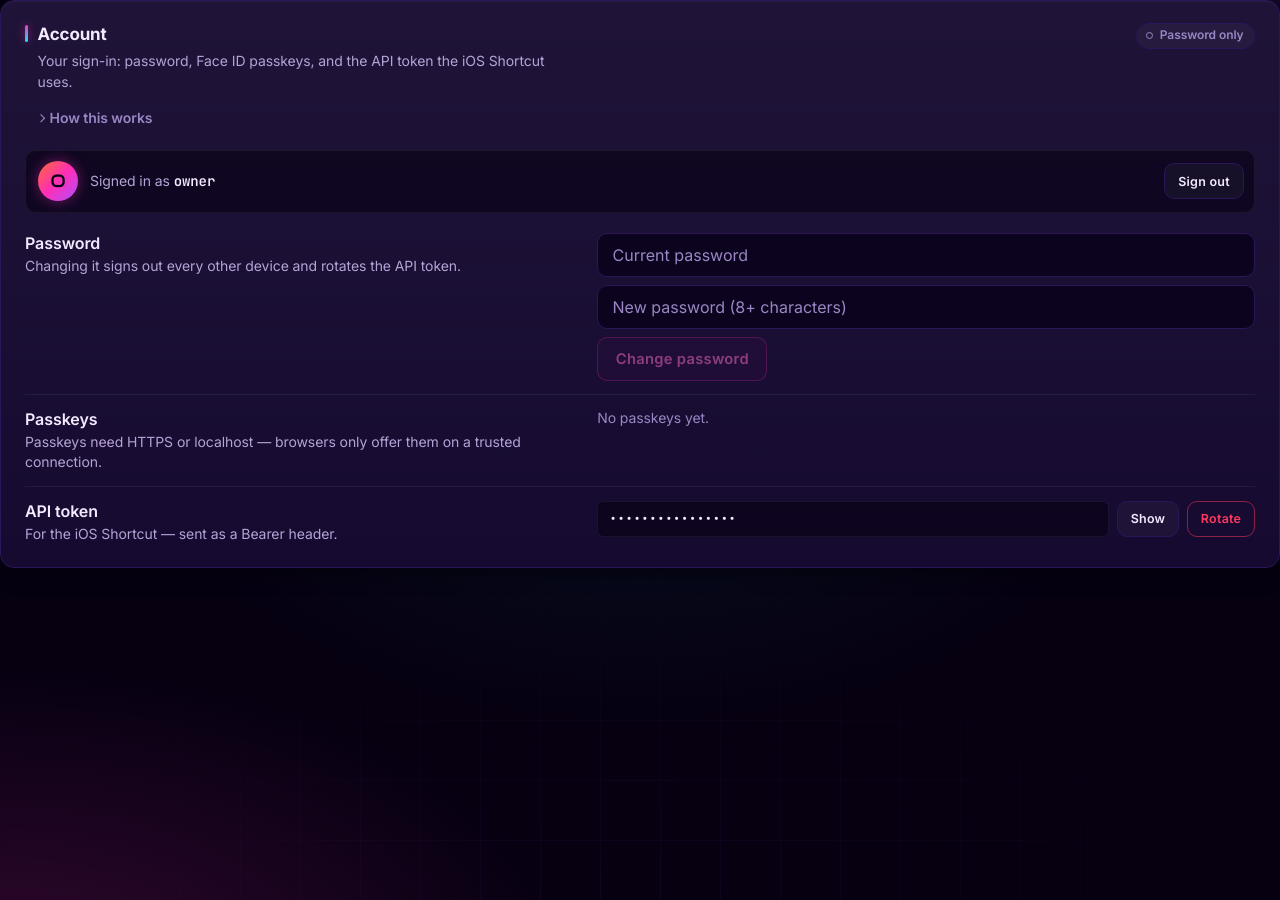
AccountCard — the API token is a credential, not a profile field › asks for the password before revealing it
Click the button "Show" at (1148, 519), box [1117, 501, 1179, 537]
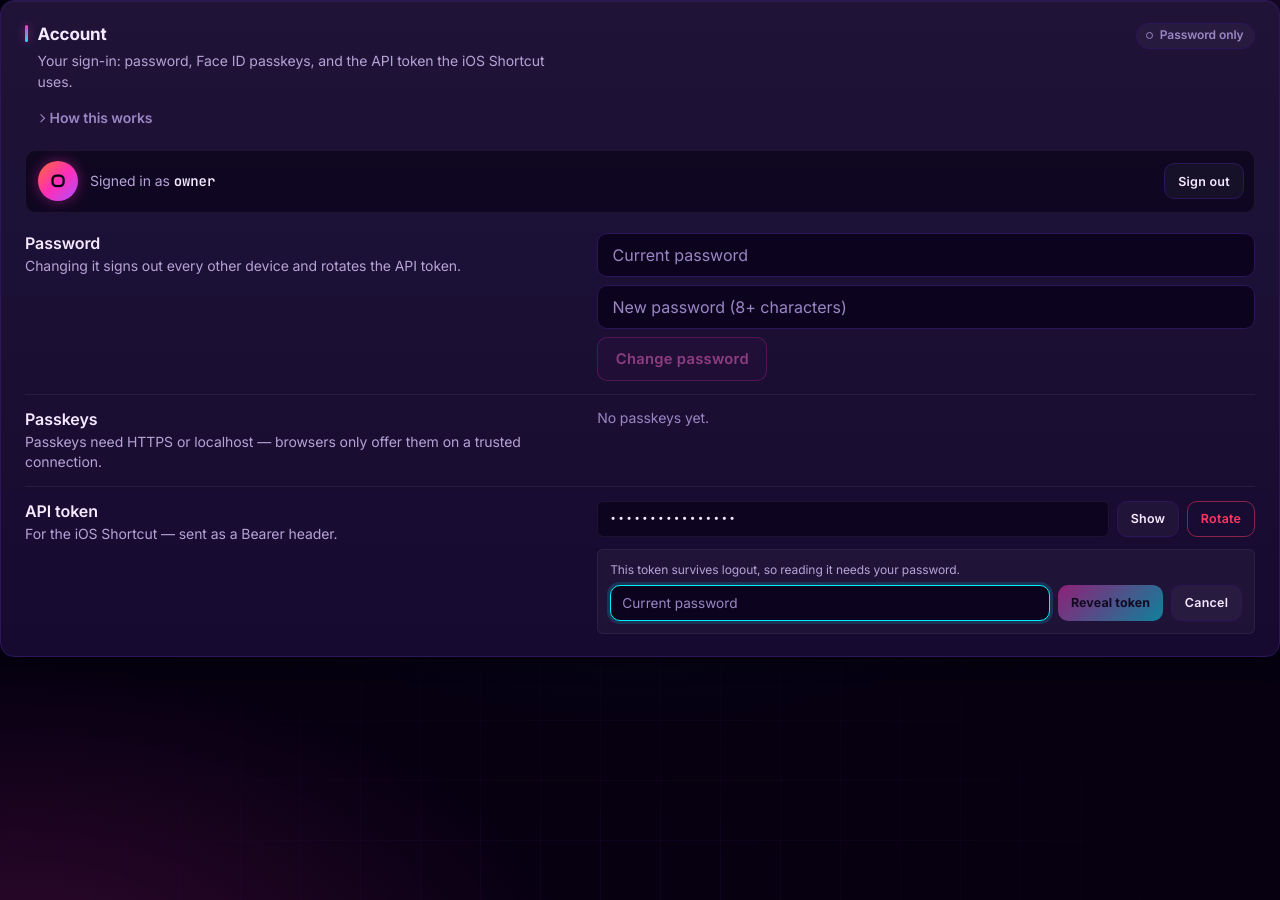
Type "a-strong-password" into the password field named "Current password to reveal the API token" at (830, 603), box [610, 585, 1050, 621]
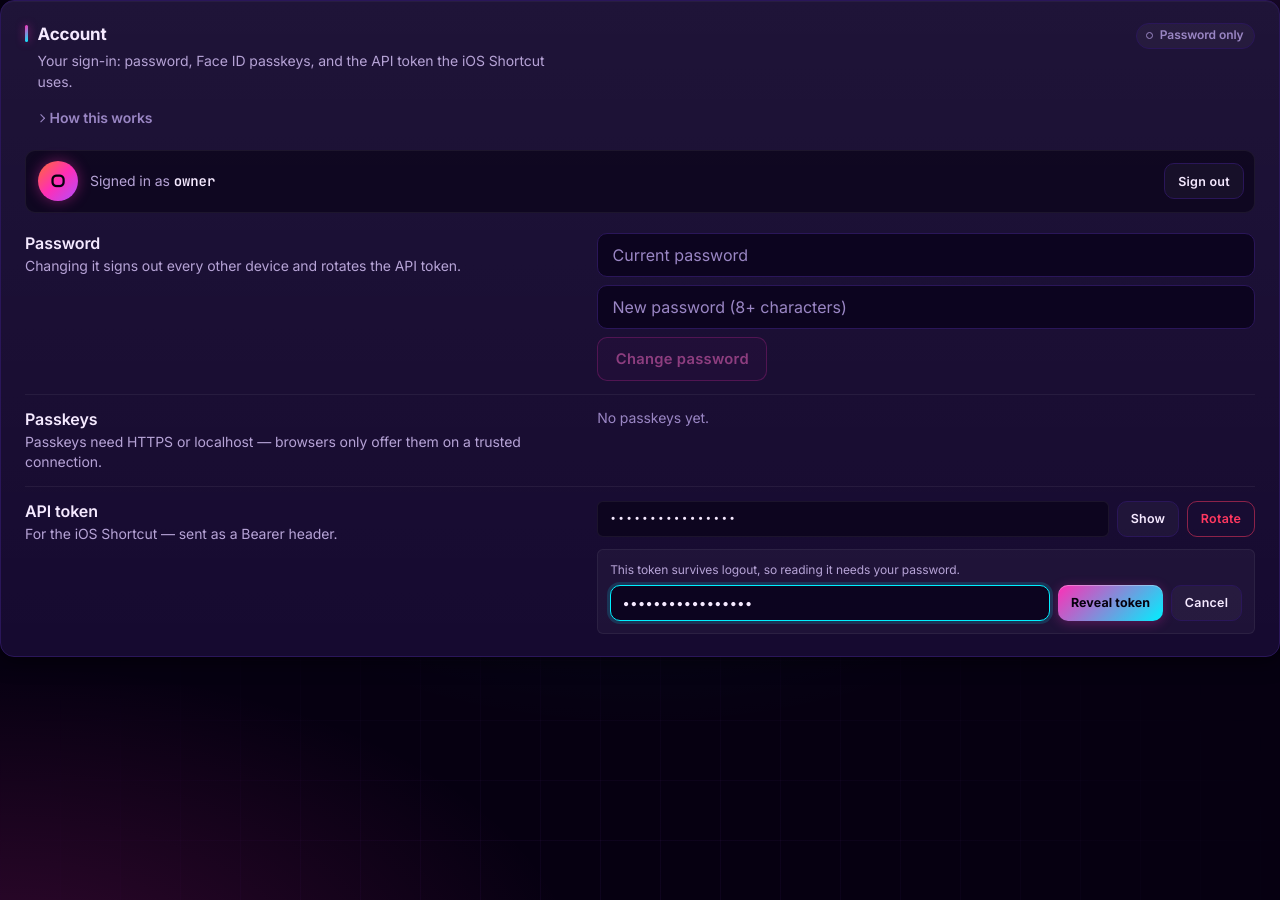
Click the button "Reveal token" at (1111, 603), box [1058, 585, 1163, 621]
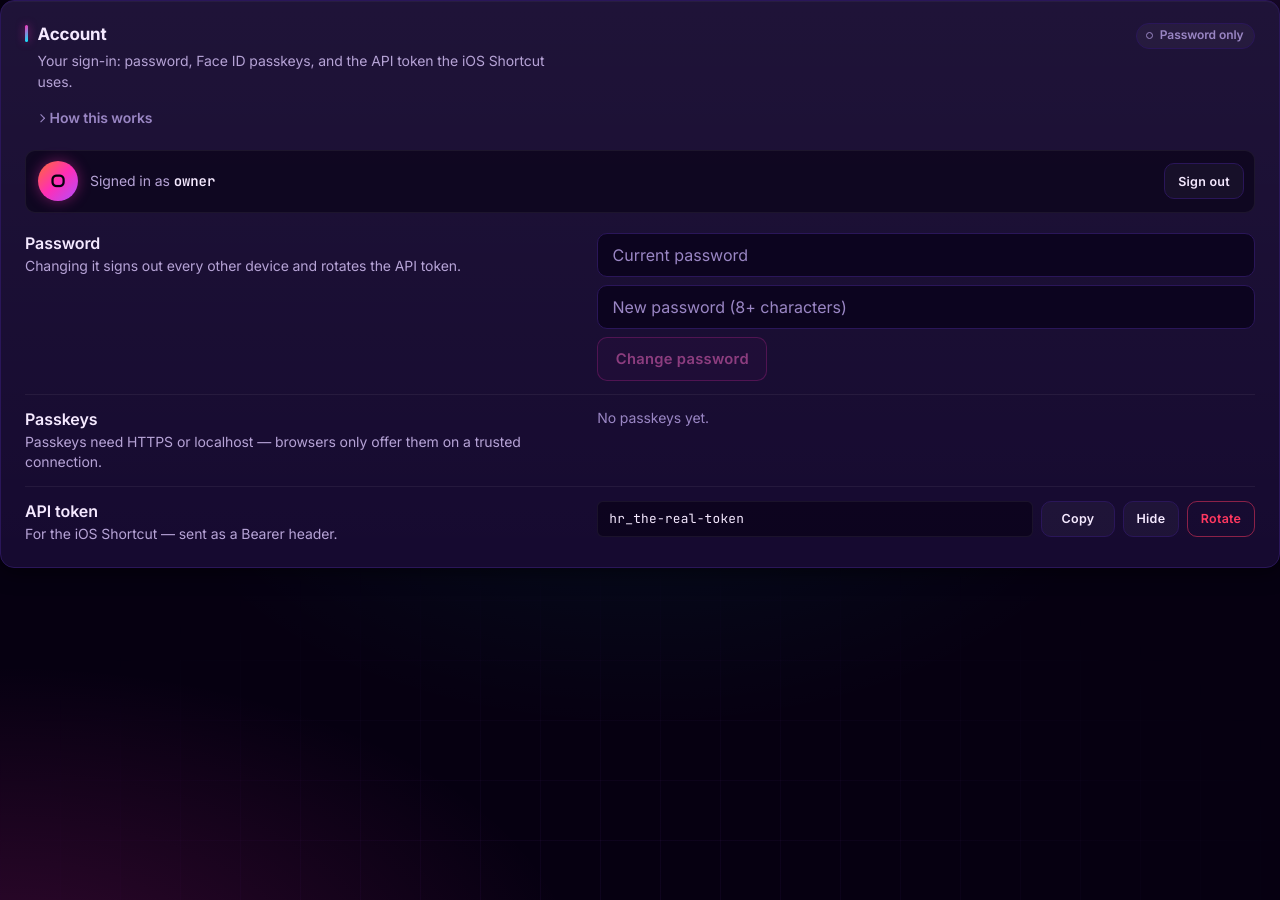
Check: the text "hr_the-real-token" is shown, box [597, 501, 1033, 537]
